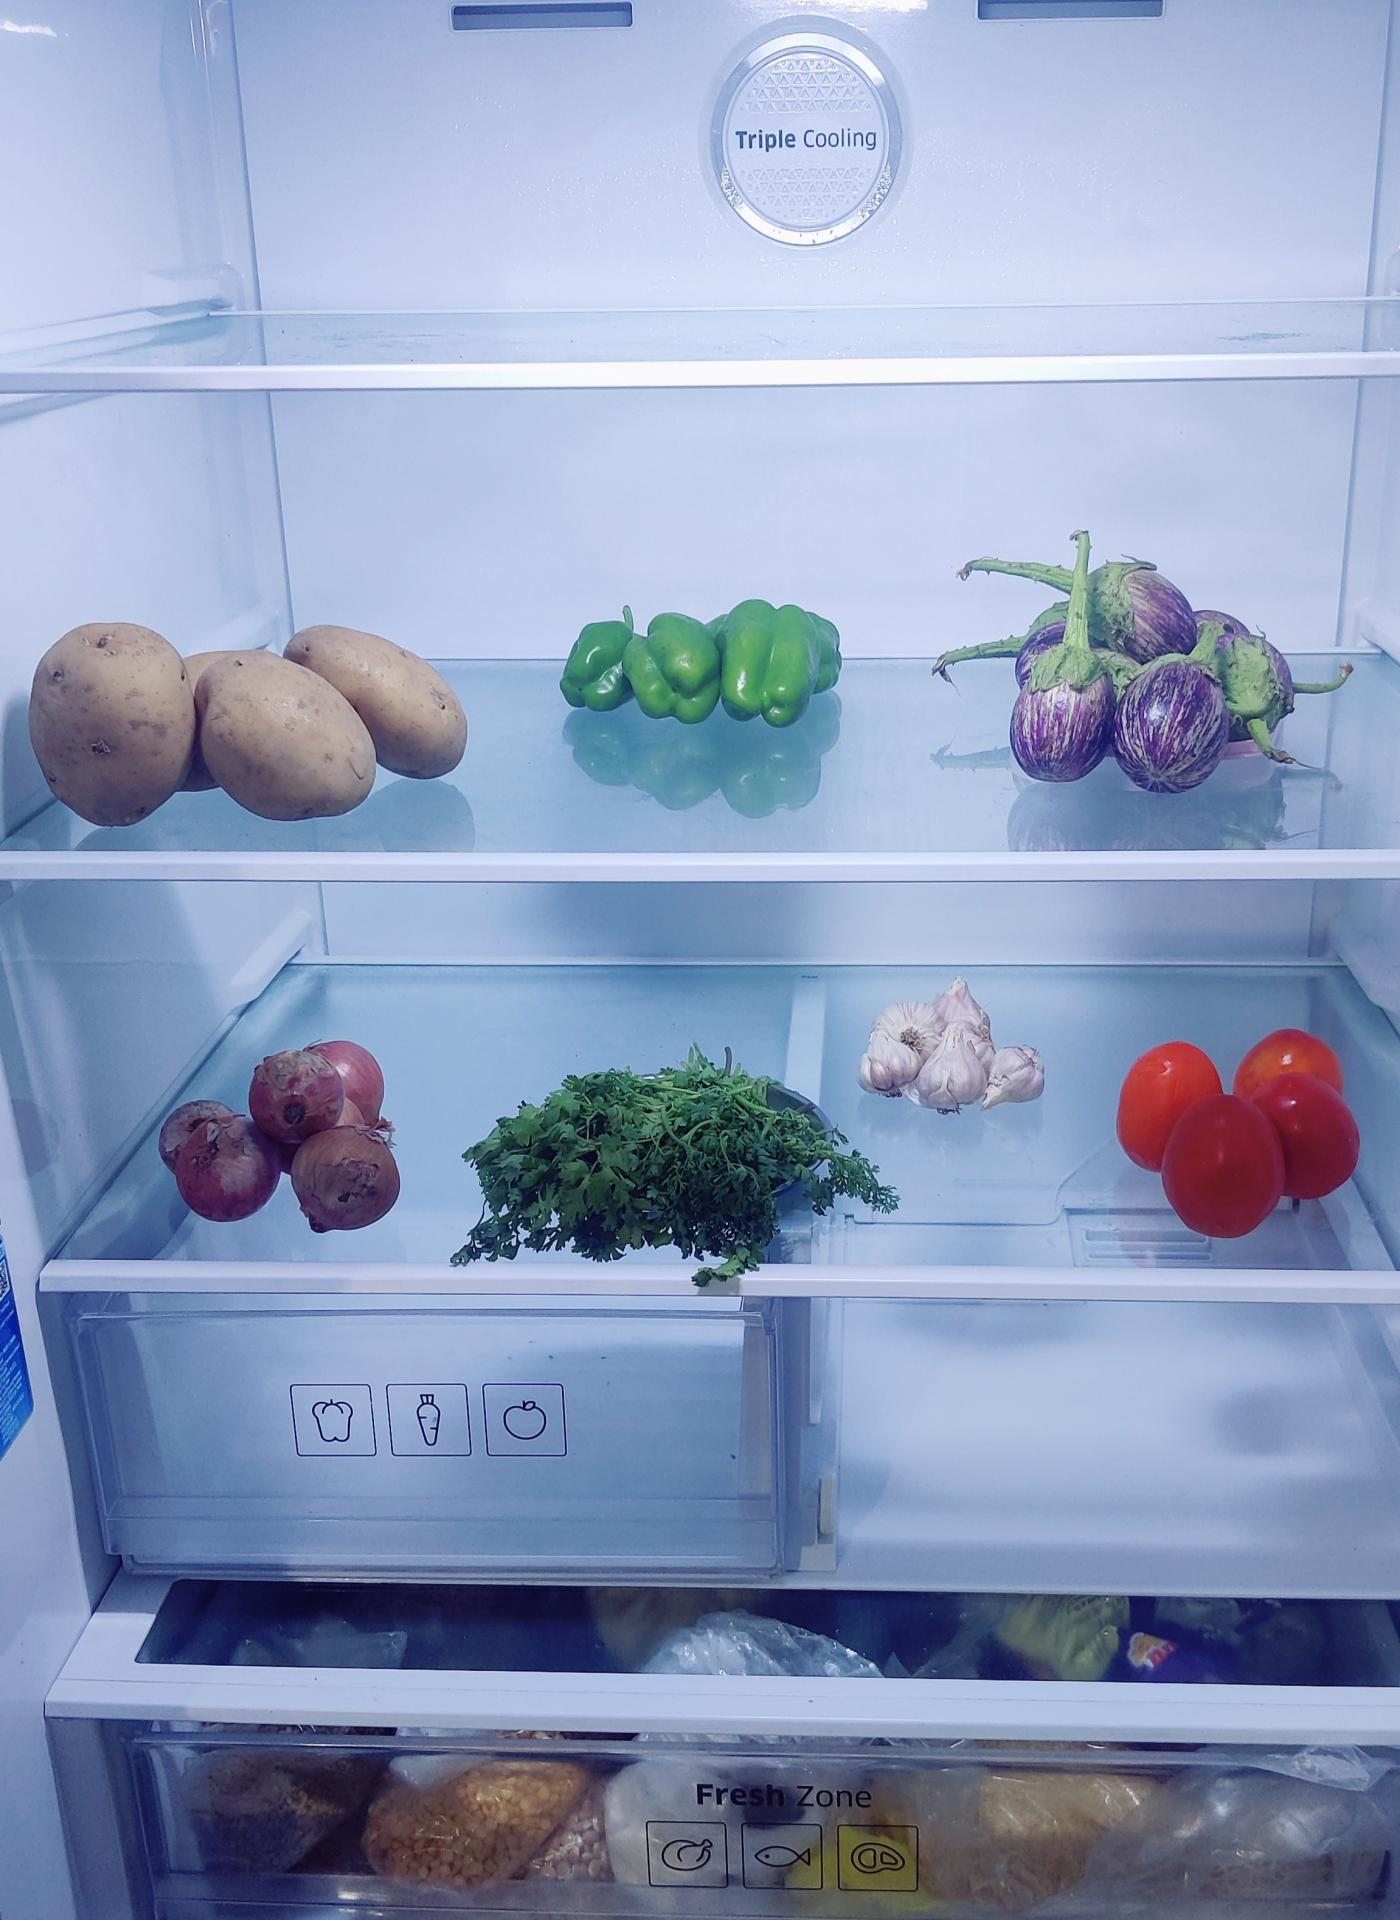brinjal: (986, 543, 1293, 777)
capsicum: (565, 599, 842, 730)
coriander: (461, 1064, 877, 1263)
garlic: (863, 981, 1047, 1109)
onion: (163, 1030, 406, 1224)
potato: (22, 607, 470, 821)
tomato: (1118, 1023, 1364, 1234)
